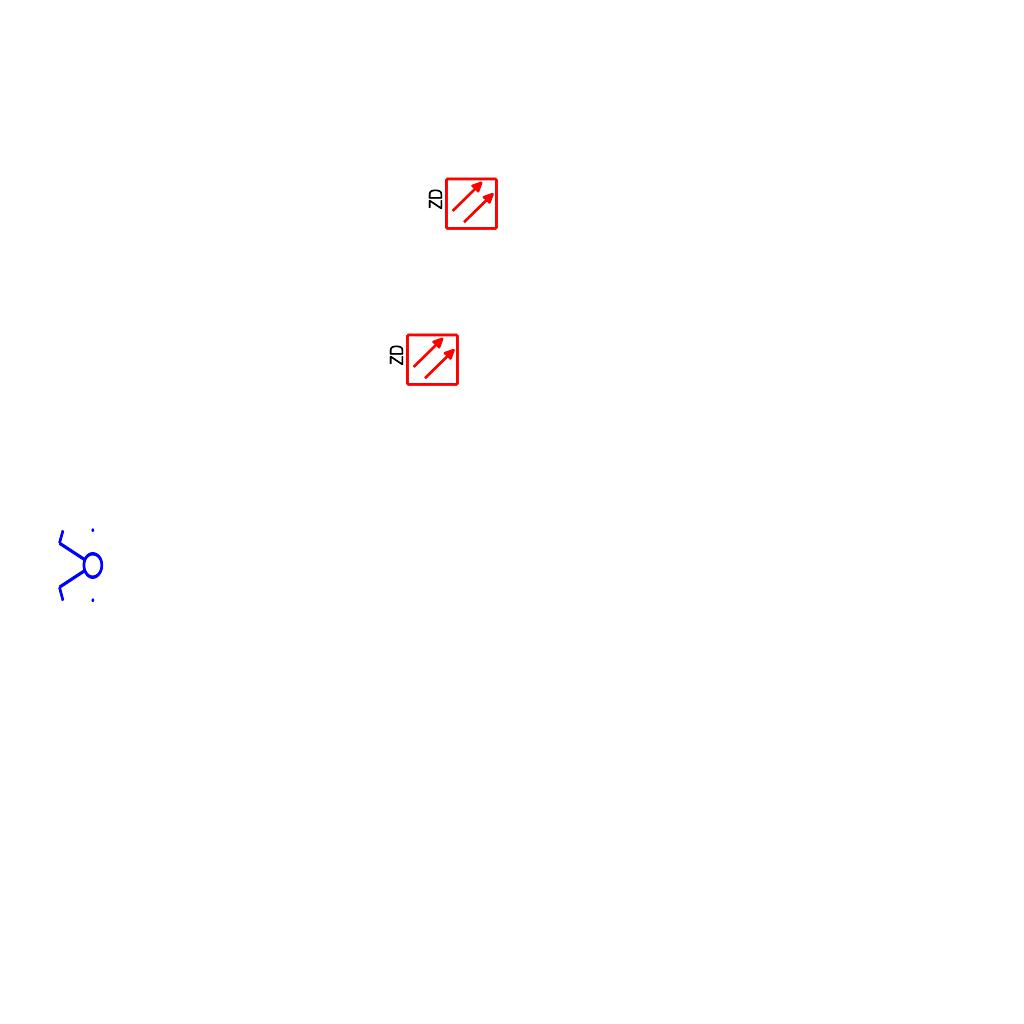Serienschalter: (56, 524, 104, 608)
ZD_Melder_in_Zwischendecke_mit_Revisionsoeffnung_mind_40_x_40_cm: (386, 332, 460, 389), (425, 176, 499, 233)
